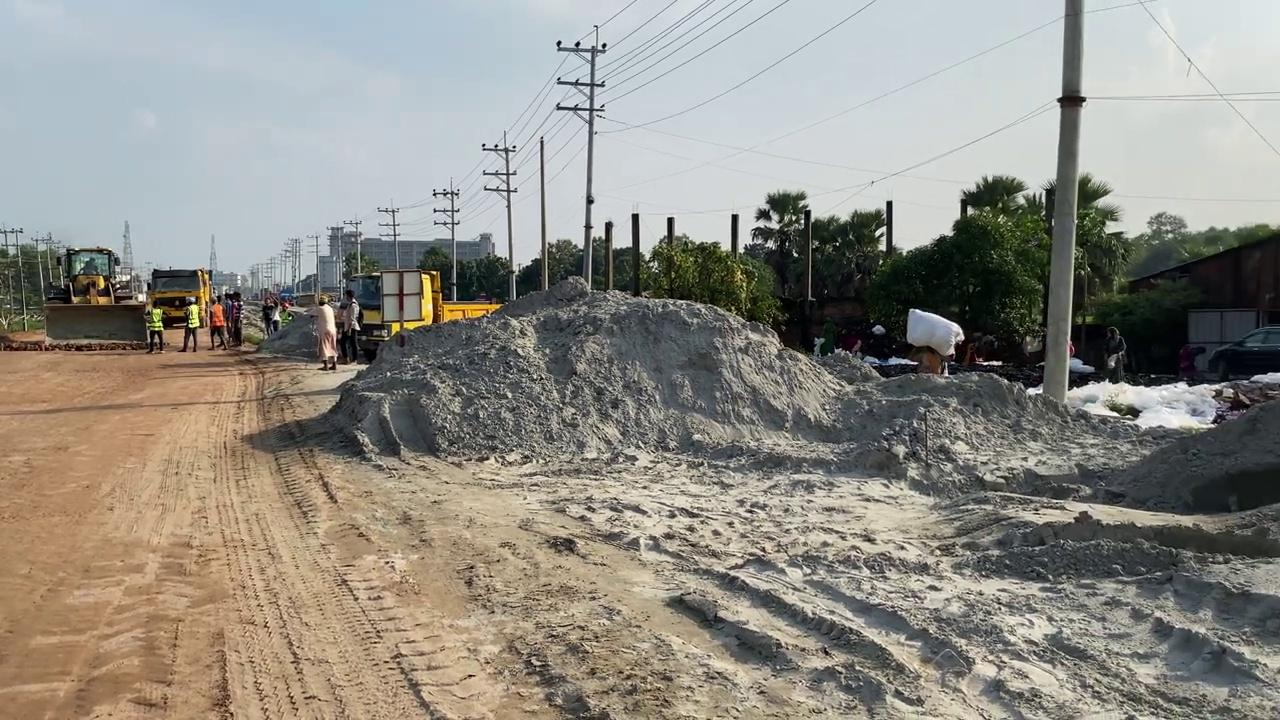Car: (1207, 324, 1279, 381)
Muddy road: (1, 305, 1278, 718)
Pole: (1041, 0, 1085, 404), (802, 207, 811, 314), (630, 212, 640, 295), (730, 212, 739, 258)
Tree: (345, 267, 504, 362), (42, 245, 149, 348), (145, 266, 214, 327)
